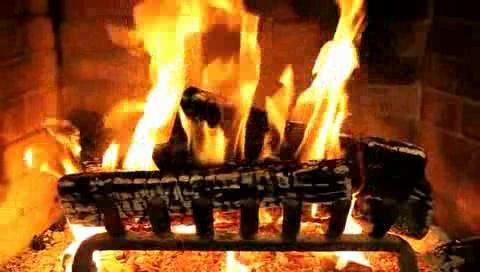fire: (116, 0, 367, 168)
